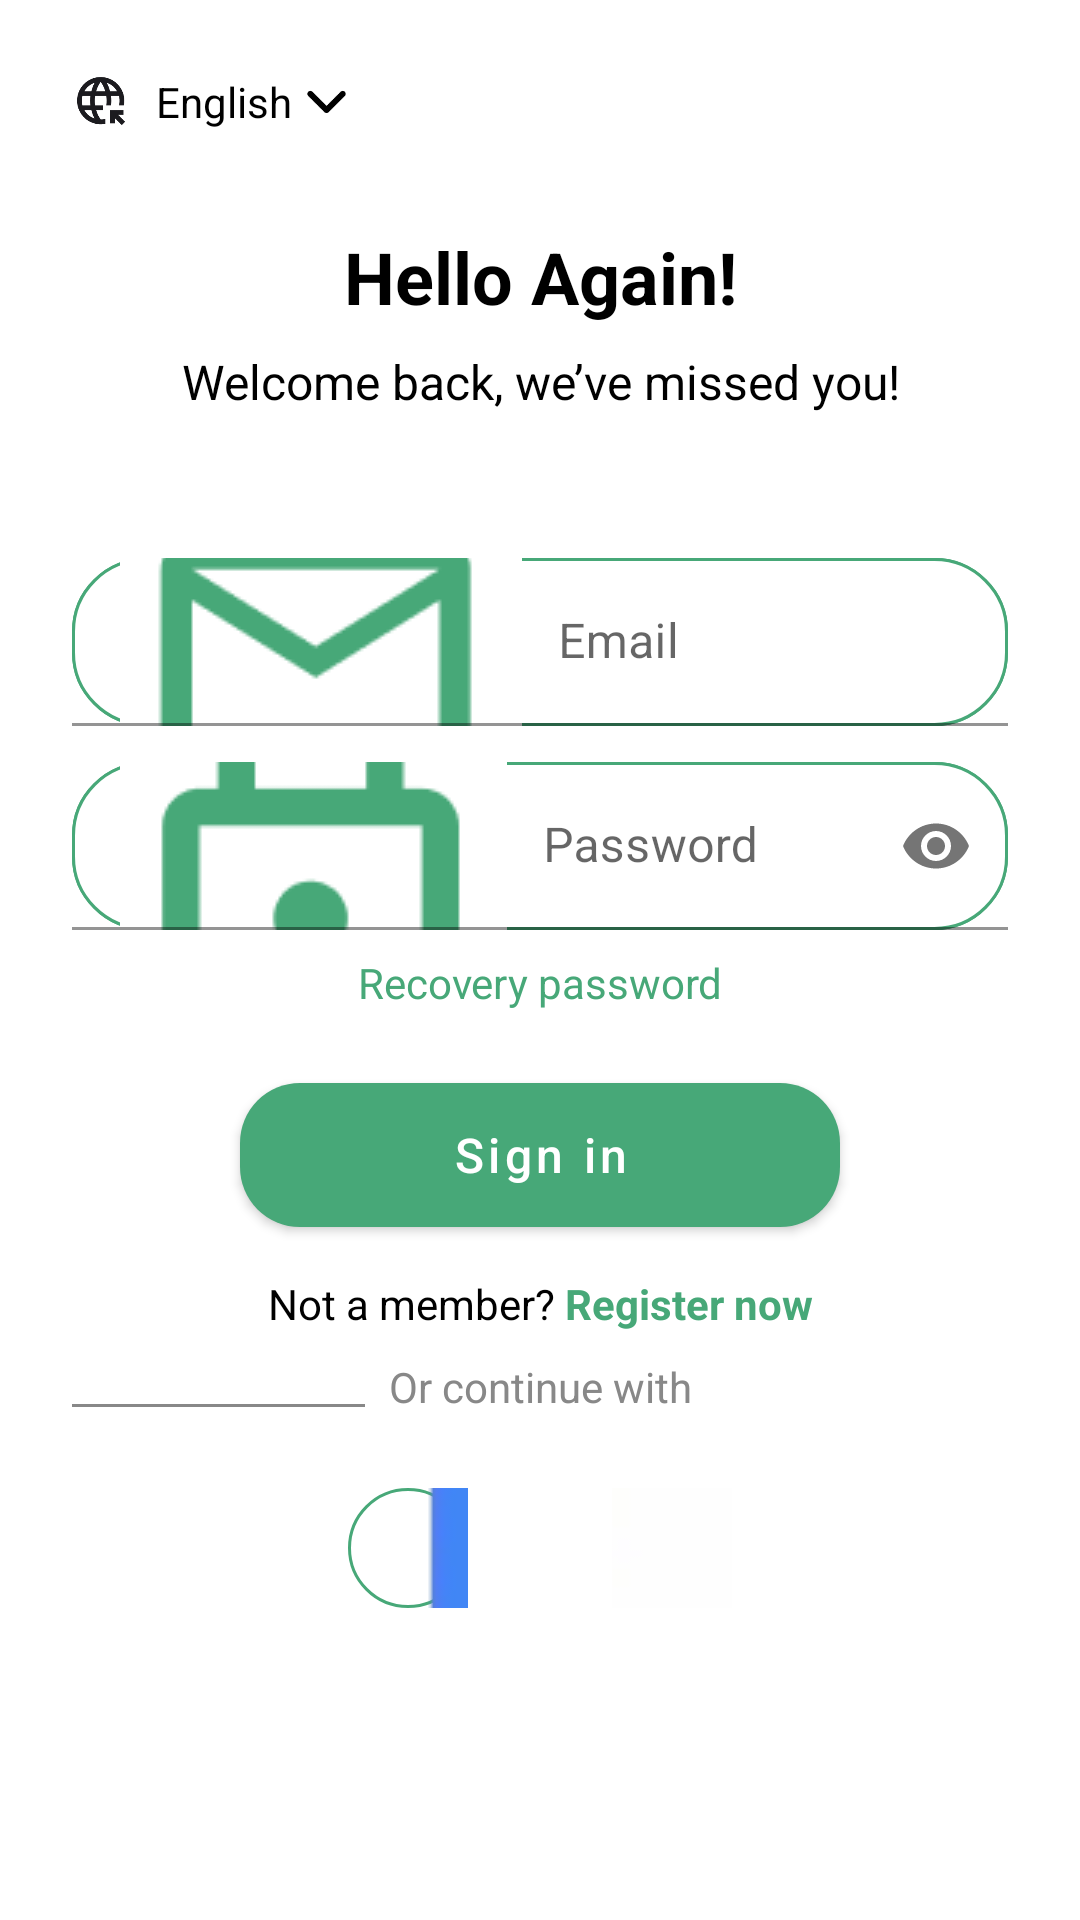

Icon bounding boxes for this 1080 × 1920 phone screenshot, format (x1, y1, x2, y2):
Dropdown: (307, 91, 346, 113)
Language: (77, 77, 125, 125)
